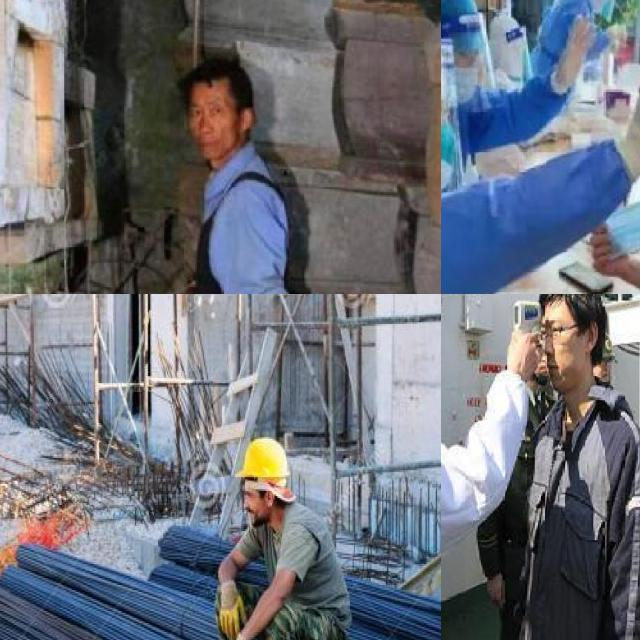No_Ear-Protection: (585, 319, 600, 356)
face_nomask: (533, 304, 586, 396), (185, 86, 243, 161)
hand_glove: (553, 14, 594, 88), (214, 579, 251, 640), (625, 68, 640, 159)
hand_noglove: (591, 222, 627, 282), (507, 326, 538, 381), (482, 573, 506, 607)
head_helmet: (233, 434, 290, 484)
head_nohelmet: (180, 54, 248, 95), (527, 294, 611, 316)
person: (476, 294, 640, 640), (155, 47, 312, 294), (205, 435, 353, 640), (441, 294, 515, 640)
